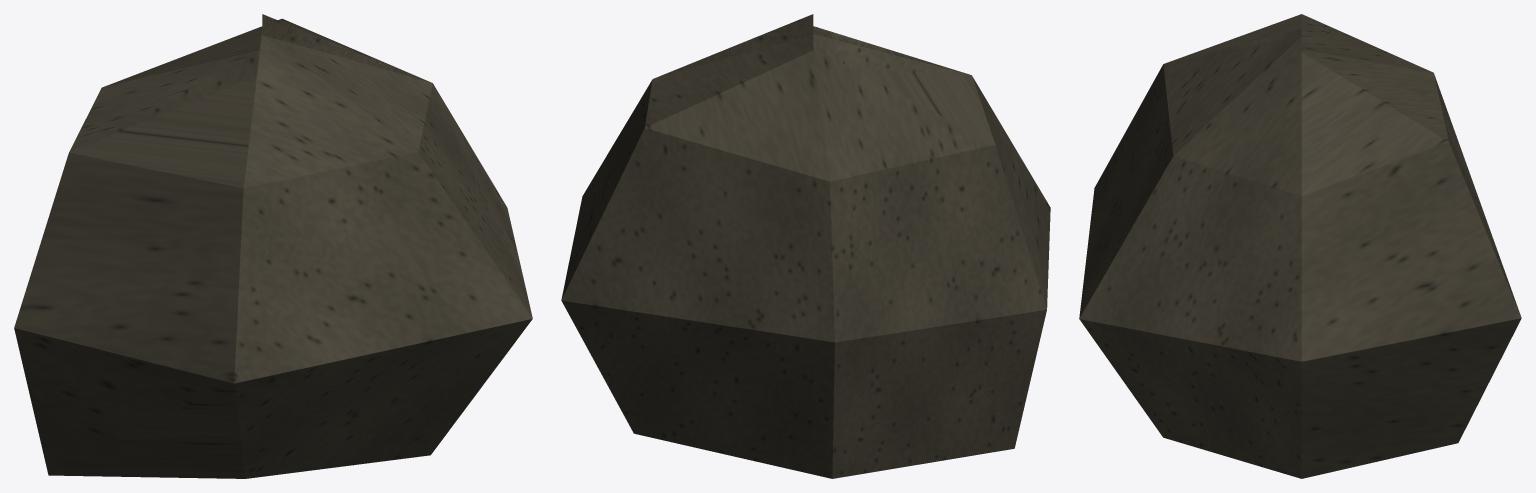
Rendered from PROP-CFF281F9BD5B_lod2.glb.
3 views of the same model, side by side, from view 1: azimuth 30°, elevation 25°; view 2: azimuth 150°, elevation 25°; view 3: azimuth 270°, elevation 25° (orthographic). The views are drawn at different scales.
Visible parts, largest first — view 1: rock.001; view 2: rock.001; view 3: rock.001.
Boxes of the visible parts, x1,y1,x2,y2 form: rock.001: (14, 14, 532, 478); rock.001: (561, 14, 1050, 478); rock.001: (1079, 14, 1521, 478).
Bounding box in the file's own units: 1.05 × 0.8357 × 0.8848.
Materials: 1 (1 with a texture image).
